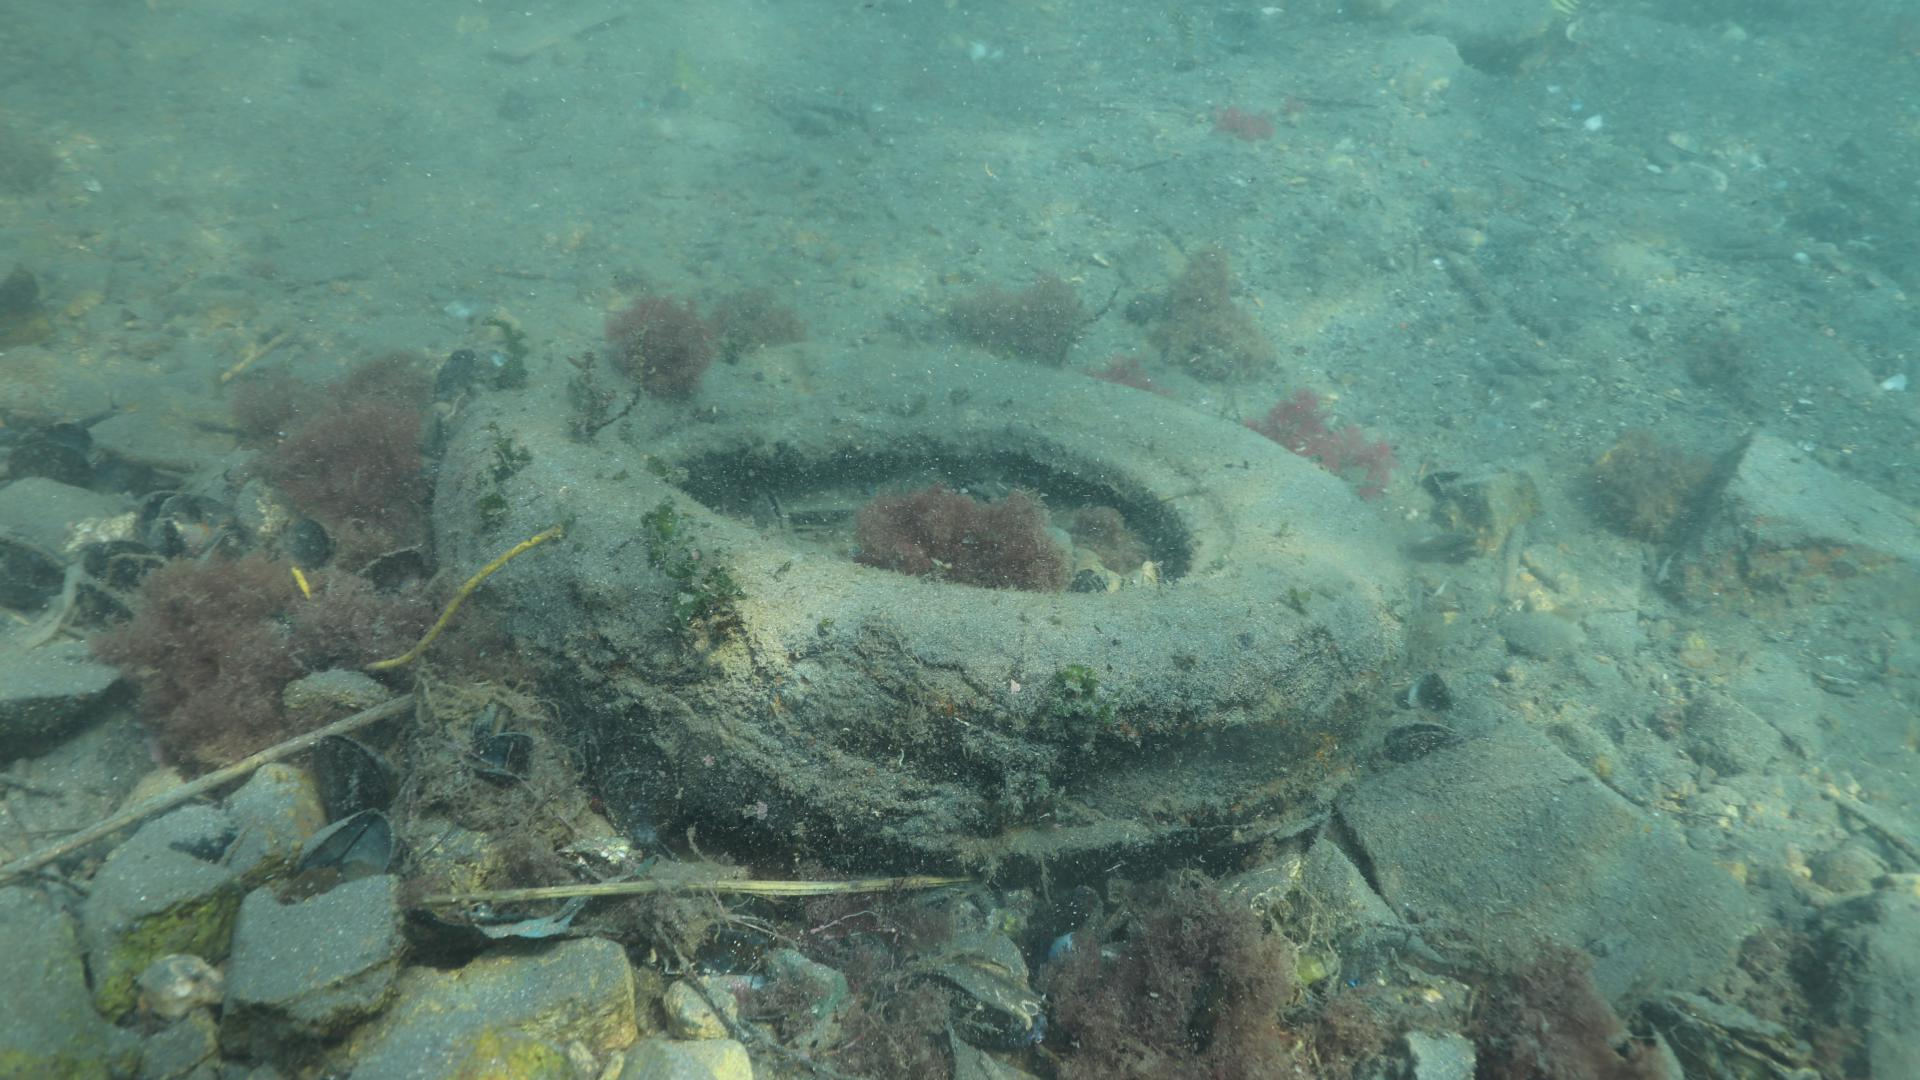tire: (426, 338, 1408, 880)
